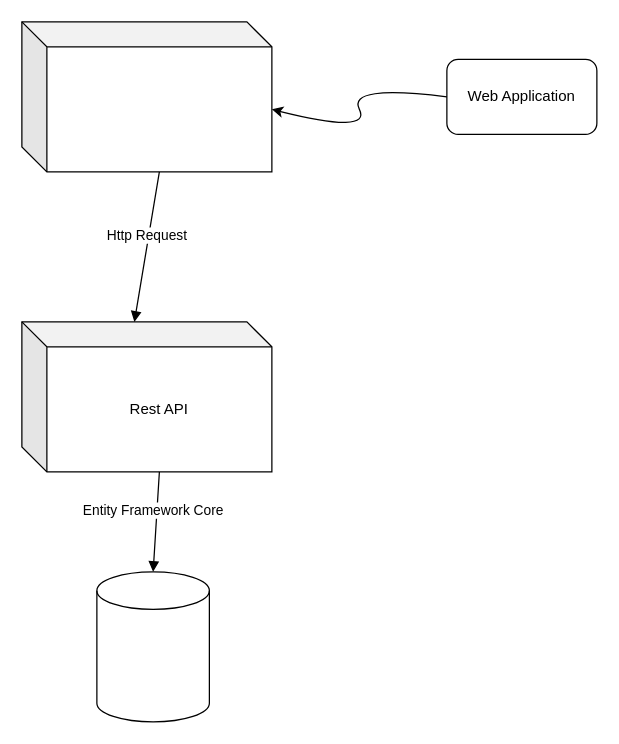
Image size: 619x744. Some labels were removed from this diagram. The centre of each missing label's shape, as x and y in pixels:
"MySql Database" belongs at point 152,646.
"Web Server" belongs at point 146,96.
